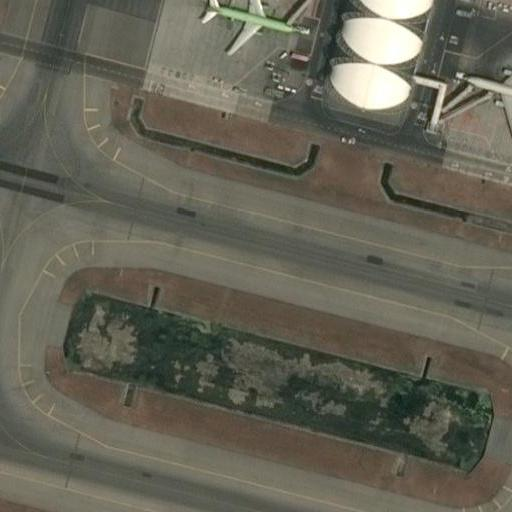Aircraft: (456, 33, 512, 143), (196, 0, 304, 53)
